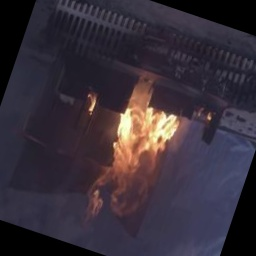fire: (84, 86, 191, 225)
